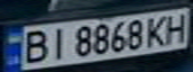6: (109, 19, 133, 53)
8: (124, 16, 148, 52), (69, 24, 93, 57), (90, 20, 112, 56)
B: (15, 27, 51, 64)
H: (163, 10, 193, 44)
I: (45, 25, 72, 61)
K: (142, 14, 172, 47)
